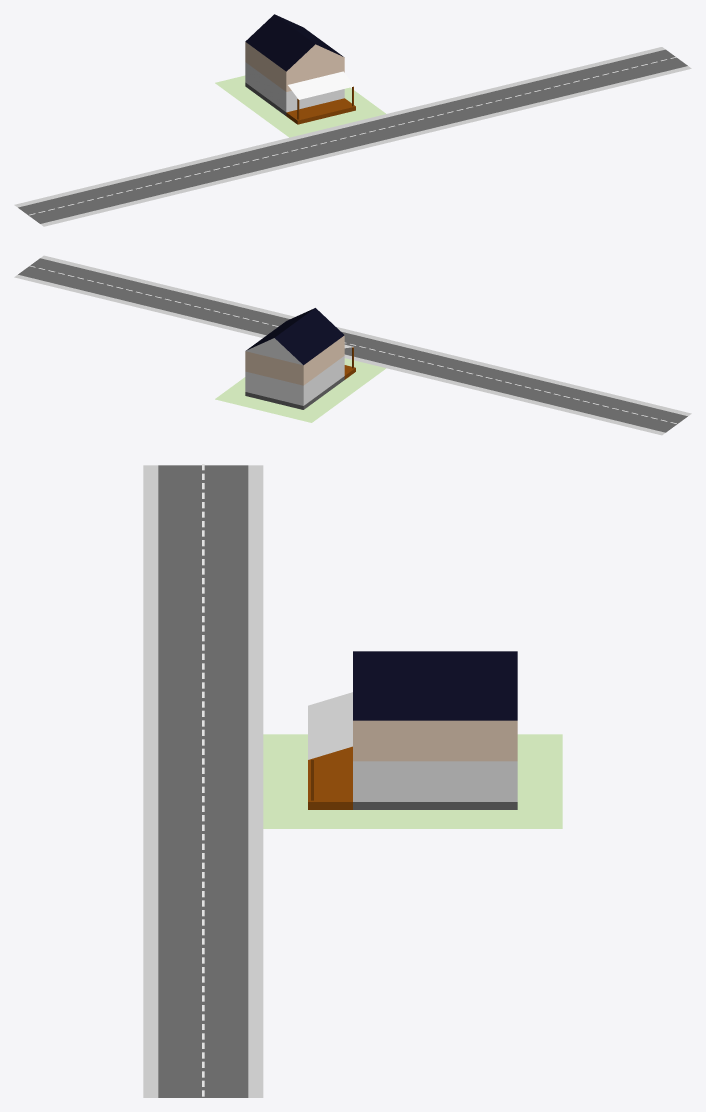
Rendered from casa-teste.dae.
3 views of the same model, one above another, from view 1: azimuth 30°, elevation 25°; view 2: azimuth 150°, elevation 25°; view 3: azimuth 270°, elevation 25° (orthographic). The views are drawn at different scales.
Parts seen in each view (by area): view 1: group_1, group_77 (×2), group_3, group_2, group_72, group_76, group_75, group_78, group_74; view 2: group_1, group_77 (×2), group_72, group_3, group_2, group_76, group_75, group_73; view 3: group_1, group_72, group_77, group_2, group_3, group_76, group_75, group_78, group_74, group_73.
Part boxes in pixels (x1,y1,x2,y2): group_1: (18, 49, 687, 223); group_77 (×2): (245, 14, 344, 71); group_3: (40, 66, 691, 226); group_2: (14, 47, 665, 207); group_72: (215, 75, 385, 137); group_76: (245, 42, 344, 91); group_75: (245, 62, 344, 112); group_78: (288, 71, 354, 99); group_74: (286, 98, 355, 124); group_1: (18, 258, 687, 432); group_77 (×2): (245, 308, 344, 365); group_72: (215, 358, 385, 422); group_3: (40, 255, 691, 416); group_2: (14, 274, 665, 435); group_76: (245, 335, 344, 385); group_75: (245, 356, 344, 405); group_73: (245, 376, 344, 409); group_1: (158, 465, 248, 1097); group_72: (263, 734, 562, 828); group_77: (353, 651, 517, 720); group_2: (248, 465, 263, 1097); group_3: (143, 465, 158, 1097); group_76: (353, 720, 517, 761); group_75: (353, 761, 517, 801); group_78: (308, 692, 352, 759); group_74: (308, 746, 352, 809); group_73: (353, 802, 517, 809).
Bounding box in the file's own units: 3937 × 1102 × 402.
